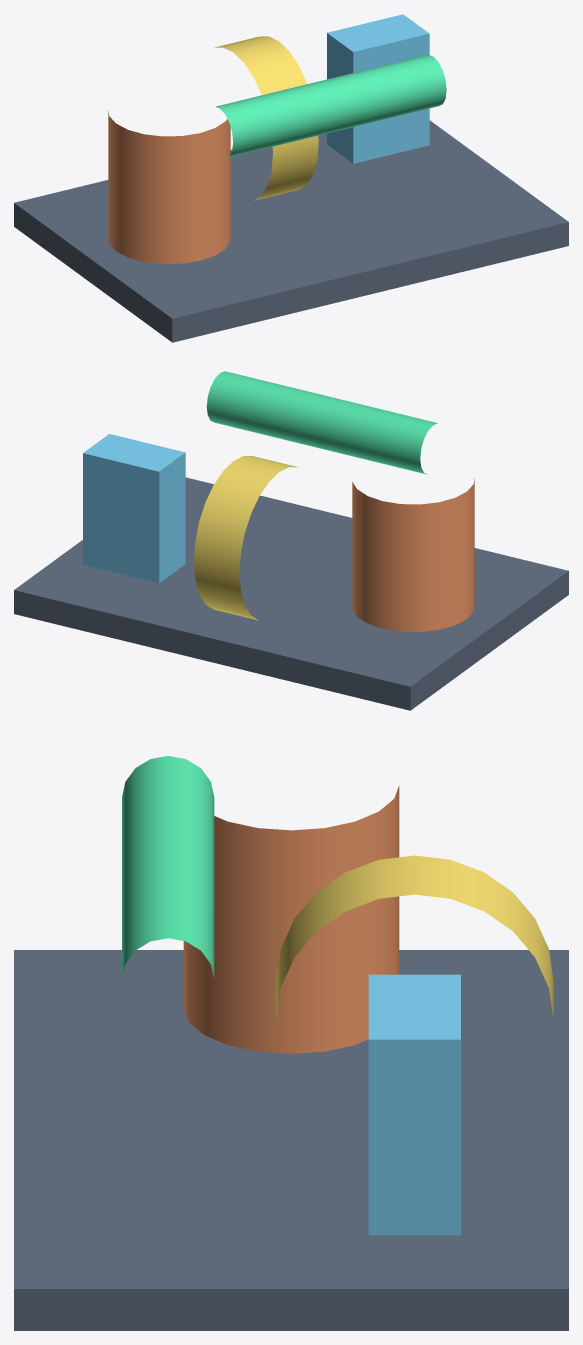
Rendered from circuit_theory.glb.
3 views of the same model, one above another, from view 1: azimuth 30°, elevation 25°; view 2: azimuth 150°, elevation 25°; view 3: azimuth 270°, elevation 25° (orthographic). The views are drawn at different scales.
Visible parts, largest first — view 1: CircuitBreadboardBase, TheveninVoltageSource, RheostatSliderLoad, CeramicCapacitorBank, InductorCoilToroid; view 2: CircuitBreadboardBase, TheveninVoltageSource, CeramicCapacitorBank, RheostatSliderLoad, InductorCoilToroid; view 3: CircuitBreadboardBase, TheveninVoltageSource, CeramicCapacitorBank, RheostatSliderLoad, InductorCoilToroid.
Part boxes in pixels (x1,y1,x2,y2): CircuitBreadboardBase: (14, 120, 568, 342); TheveninVoltageSource: (108, 110, 230, 263); RheostatSliderLoad: (215, 54, 446, 157); CeramicCapacitorBank: (327, 14, 429, 163); InductorCoilToroid: (214, 36, 318, 200); CircuitBreadboardBase: (14, 477, 568, 710); TheveninVoltageSource: (352, 478, 474, 632); CeramicCapacitorBank: (83, 434, 185, 583); RheostatSliderLoad: (206, 371, 437, 474); InductorCoilToroid: (193, 456, 297, 620); CircuitBreadboardBase: (14, 950, 568, 1330); TheveninVoltageSource: (183, 785, 399, 1053); CeramicCapacitorBank: (368, 974, 460, 1235); RheostatSliderLoad: (122, 756, 214, 978); InductorCoilToroid: (276, 855, 553, 1019).
Size of the model in its own units: 2.6 by 1.13 by 1.8.
